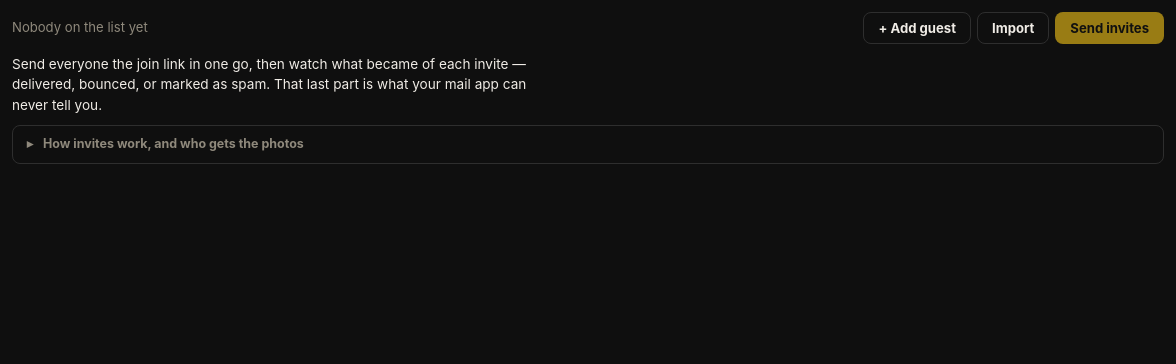
Scenario: a blocked control answers its press › Send invites with nobody mailable answers, and opens the panel that fixes it
The width and height of the screenshot is (1176, 364).
Click the button "Send invites". click: click(1110, 28)
box: [1055, 12, 1164, 44]
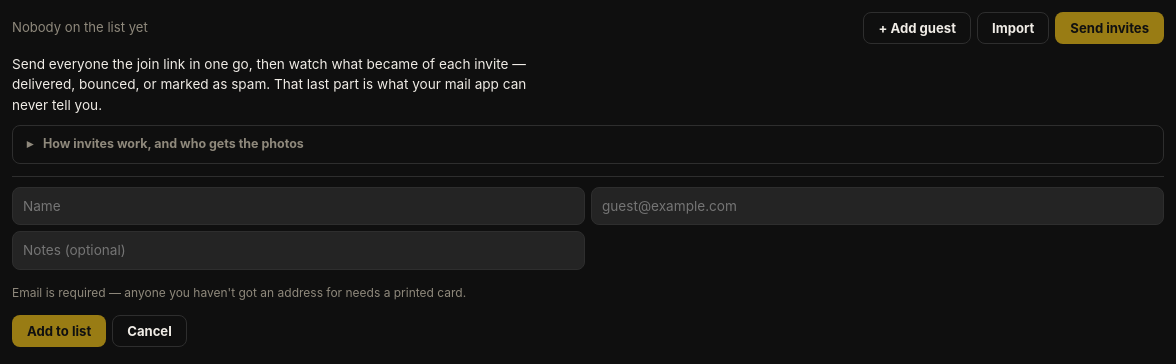
Expected: the field with placeholder "Name" is shown, [12, 187, 585, 225]
